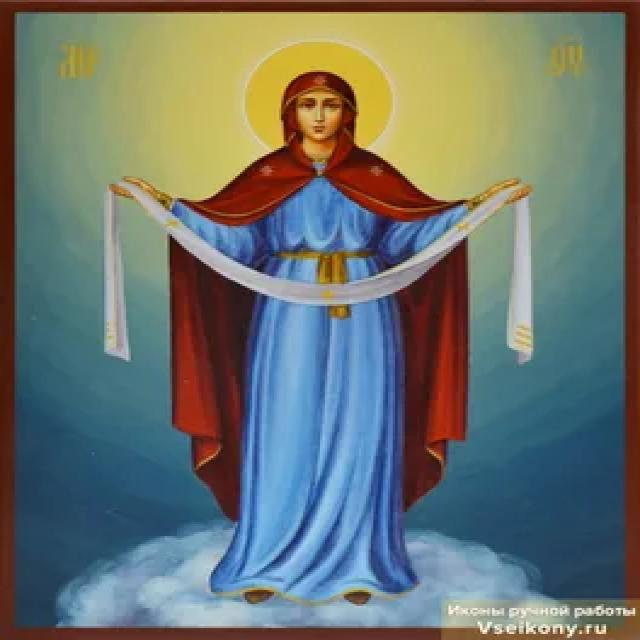mother of god: (115, 71, 526, 603)
